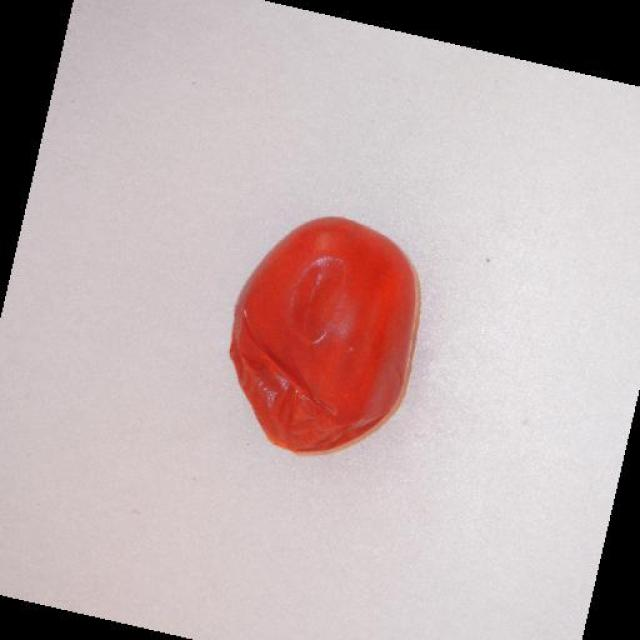Stale_tomato: (224, 197, 429, 463)
